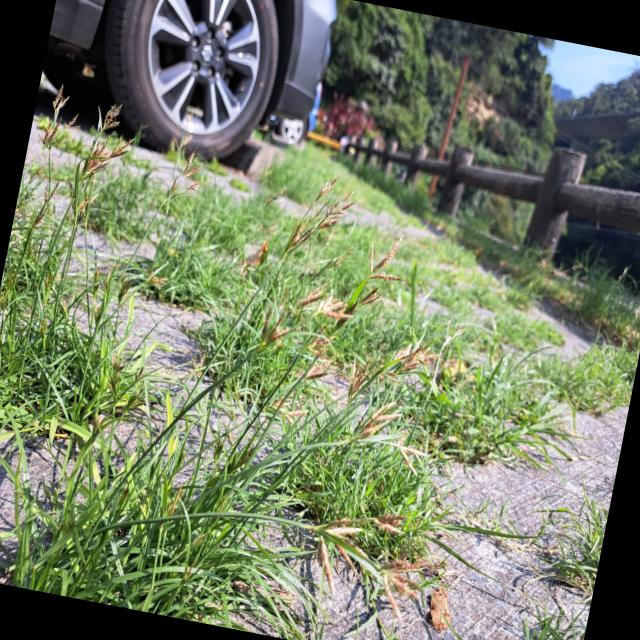cyperus: (290, 494, 448, 634), (243, 265, 359, 384), (326, 220, 412, 350), (64, 88, 142, 227), (274, 164, 361, 276), (76, 247, 171, 340), (340, 324, 440, 409), (94, 343, 154, 431), (329, 390, 405, 457), (162, 113, 212, 207), (34, 78, 82, 156)
